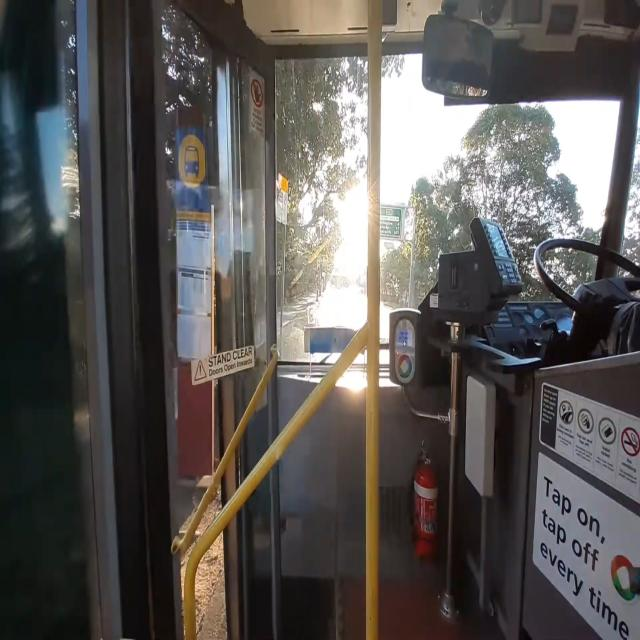bus-door: (30, 0, 282, 640)
